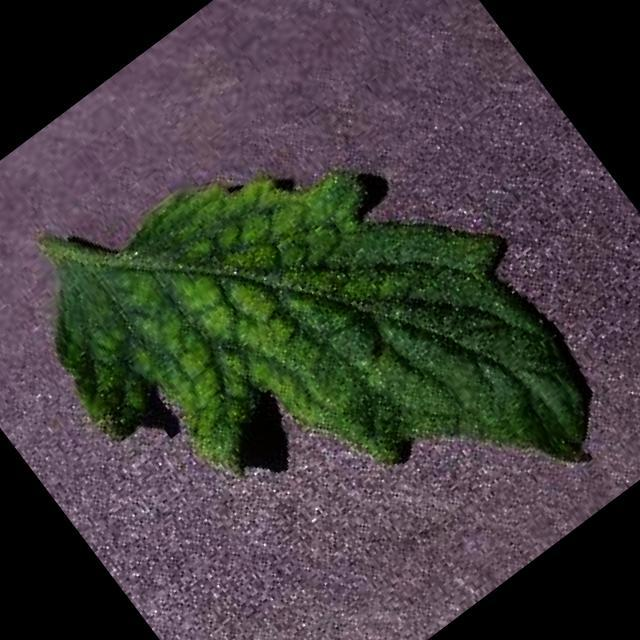Tomato mosaic virus leaf: (14, 51, 640, 640)
